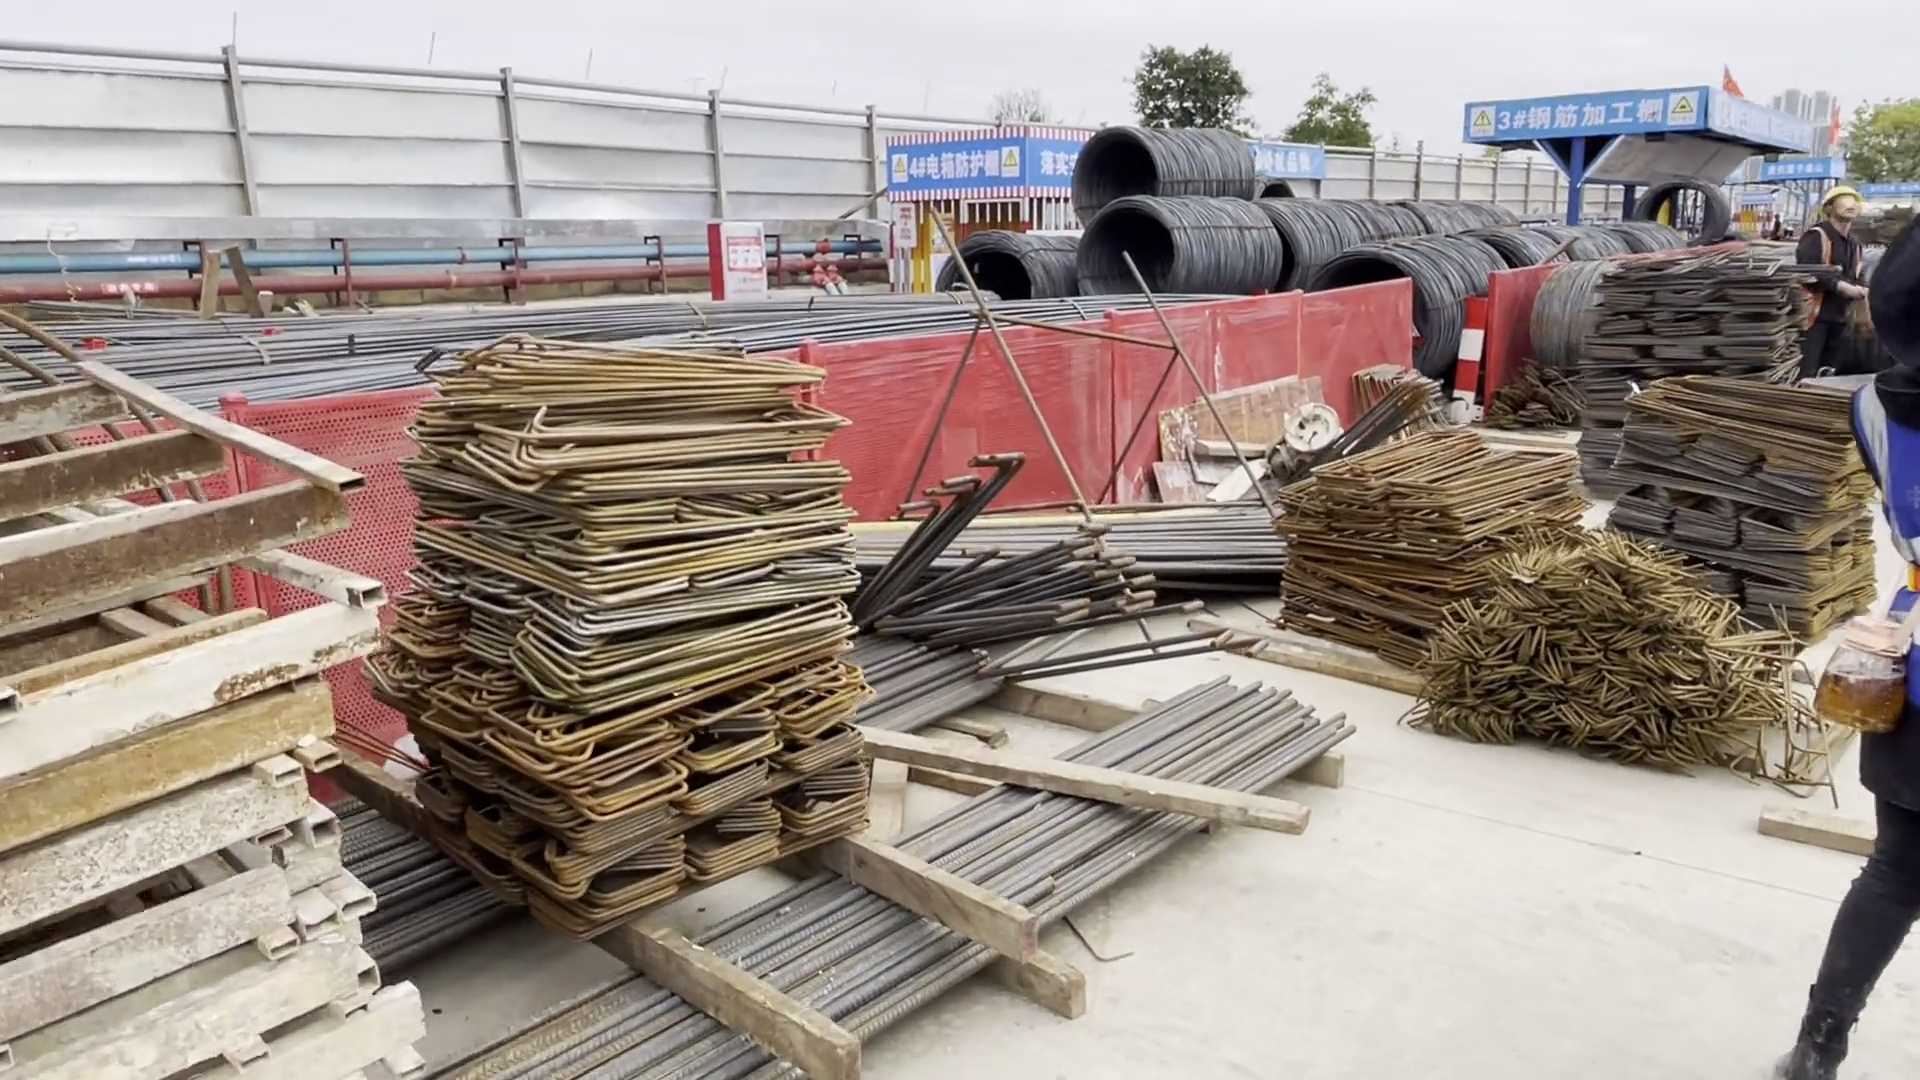fence: (1, 60, 862, 245)
helmet: (1821, 184, 1869, 213)
person: (1837, 358, 1920, 1057), (1786, 175, 1874, 365)
rebar: (401, 676, 1350, 1080), (842, 485, 1275, 608)
slogan: (1468, 90, 1681, 126), (886, 143, 1035, 187), (1710, 98, 1800, 143)
vest: (1841, 388, 1920, 639), (1798, 232, 1853, 327)
